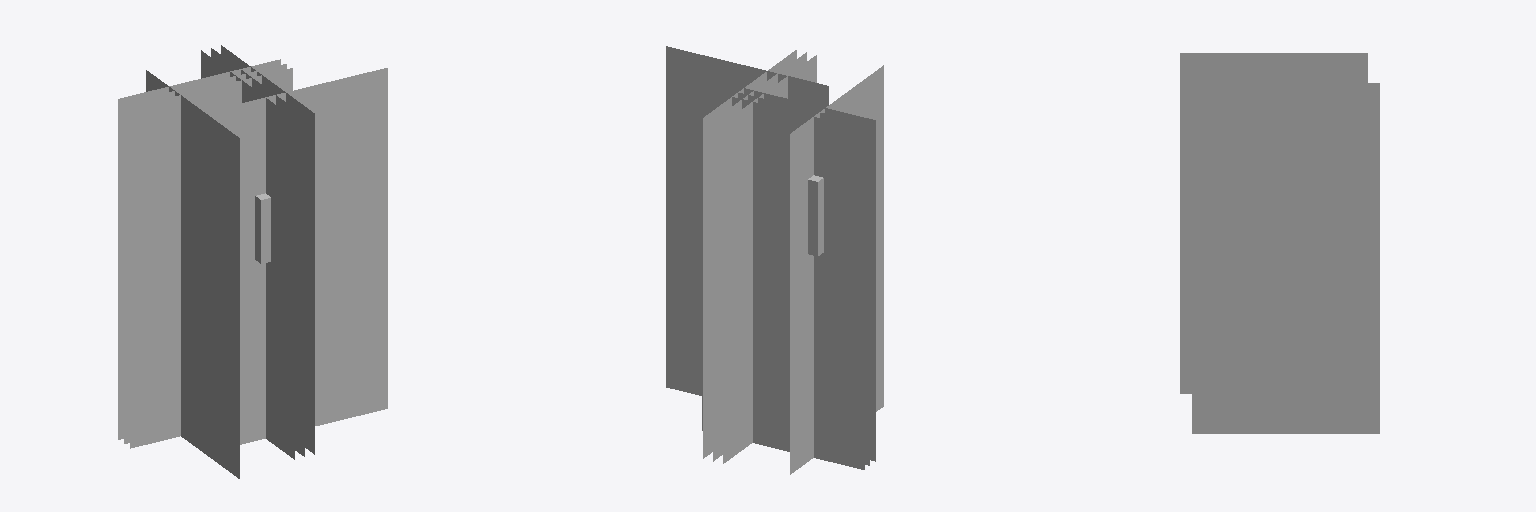
File: agriculture_corn_6.obj
The picture shows the model from 3 angles: view 1: azimuth 30°, elevation 25°; view 2: azimuth 150°, elevation 25°; view 3: azimuth 270°, elevation 25°; orthographic projection.
Bounding box in the file's own units: 1.44 × 2 × 1.06.